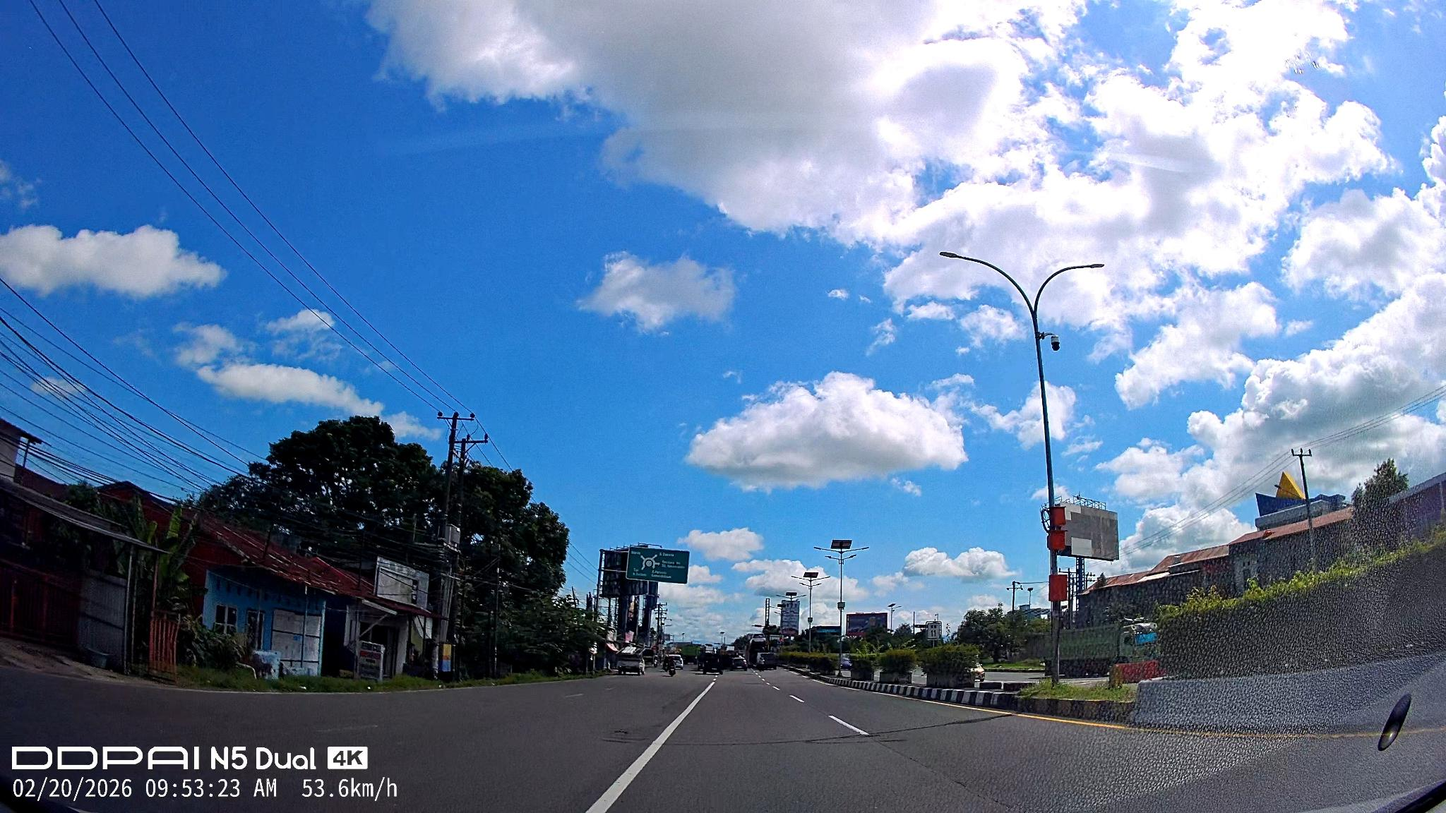rambu_teks: (625, 546, 690, 585)
